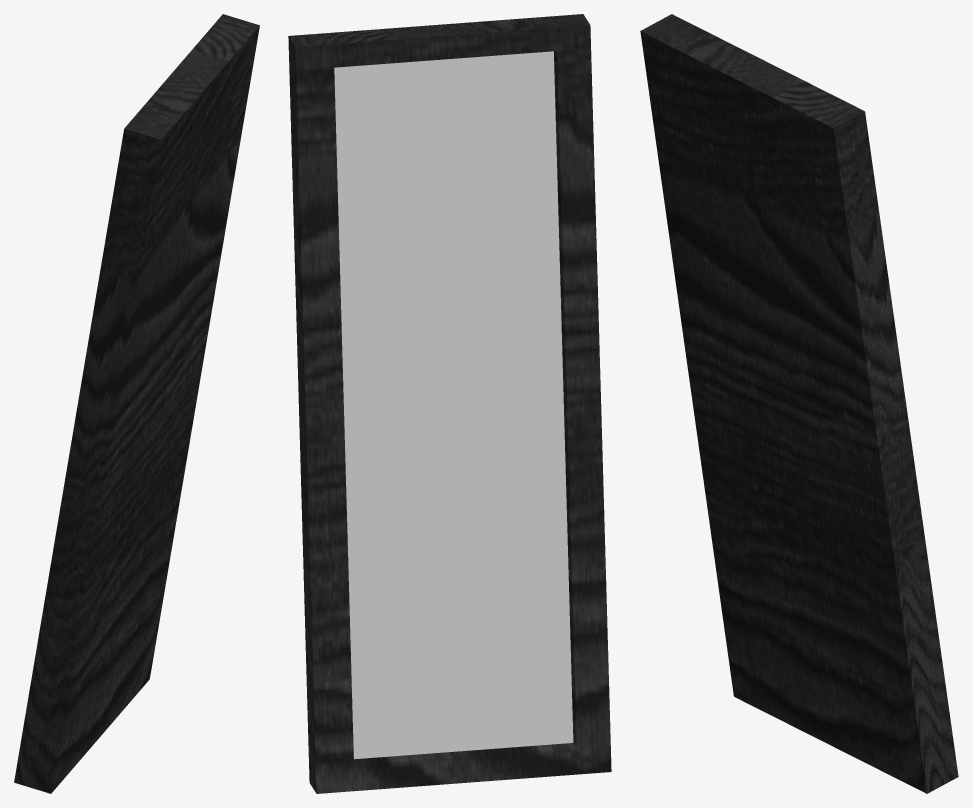
File: BlusRoom_Mirror.fbx
3 renders of one model, left to right at view 1: azimuth 30°, elevation 25°; view 2: azimuth 150°, elevation 25°; view 3: azimuth 270°, elevation 25°, orthographic. The views are drawn at different scales.
Visible parts, largest first — view 1: Mirror; view 2: Mirror; view 3: Mirror.
Part boxes in pixels (<box>): Mirror: <box>14,14,259,793</box>; Mirror: <box>288,14,611,793</box>; Mirror: <box>640,14,958,793</box>.
Bounding box in the file's own units: 72.54 × 168 × 68.88.
2 materials, 1 textured.
